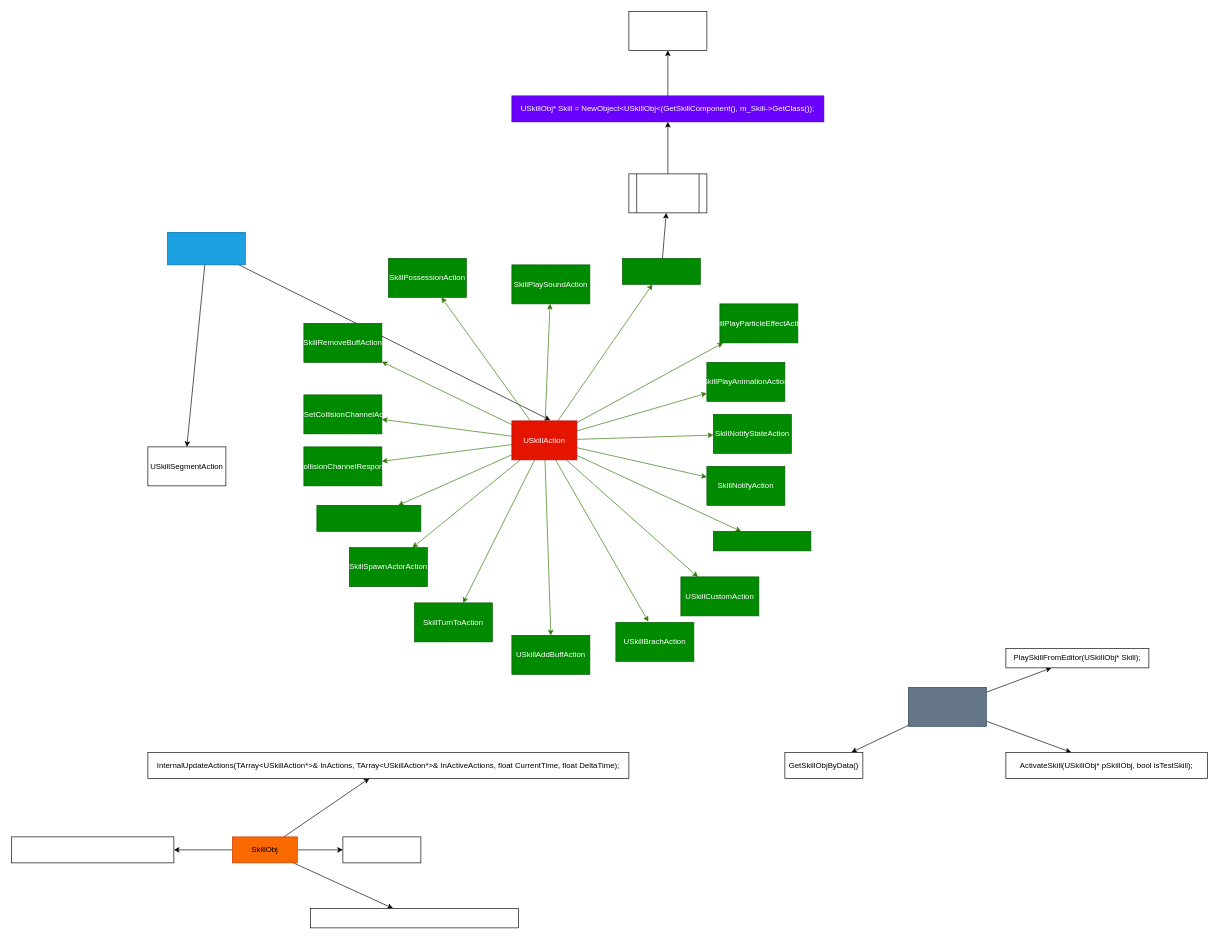
The diagram is 1219 pixels wide and 939 high, and some of its shapes have lost their labels. The shapes that lost their labels are listed below. From the top down, each one's centre as x and y in pixels, then its label:
At point 667,30: "SkillComponent->ActiveSkill(Skill)".
At point 667,193: "OnActionStart()".
At point 206,248: "UActionInfo".
At point 661,271: "SkillPlaySkillAction".
At point 368,518: "SkillSetShaderParameterAction".
At point 762,541: "SkillDamageEventAction".
At point 947,706: "SkillComponent".
At point 92,849: "GetSegmentActions(FName Segment)".
At point 381,849: "GetAllActions()".
At point 414,918: "AddAction(FName SegmentName, USkillAction* Action)".
